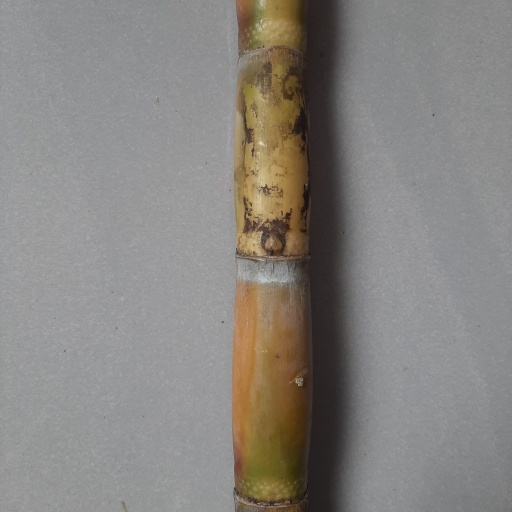Bud: (260, 232, 287, 255)
